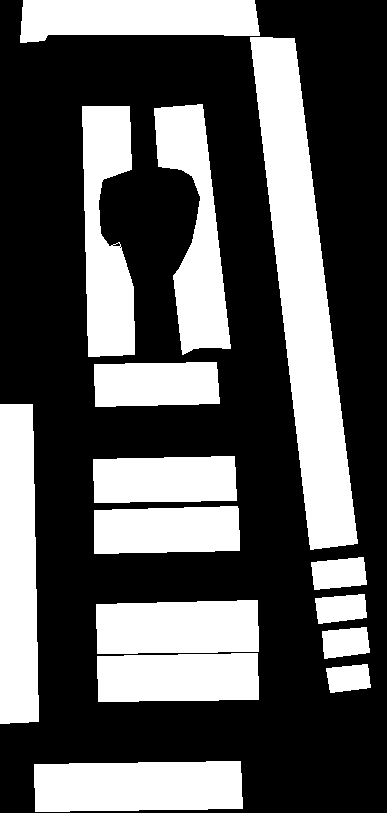parkingspot: (250, 37, 357, 549), (154, 104, 230, 354), (82, 106, 134, 356), (0, 404, 38, 723), (34, 761, 242, 811), (20, 0, 259, 42), (96, 600, 258, 653), (97, 653, 258, 701), (94, 506, 239, 553), (93, 456, 236, 502), (94, 362, 219, 406), (311, 557, 366, 589), (315, 594, 366, 623), (322, 627, 369, 658), (326, 664, 370, 692)
